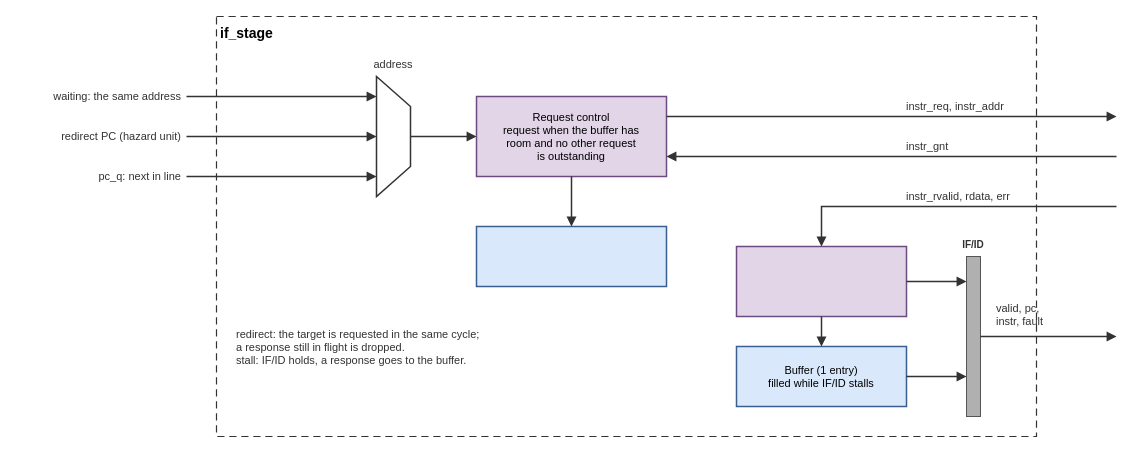
This 1133x453 diagram has some shape labels left out. The shapes that lost their labels are listed below. From the top down, each one's box as (x1, y1, x2, y2) in pixels, then its label:
(475, 225, 667, 287): pc_q +4 after each request
(735, 245, 907, 317): Response capture drops a response after a redirect
